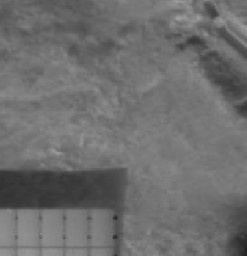solar: (37, 206, 67, 248), (62, 206, 92, 248), (87, 206, 117, 248), (13, 206, 42, 248)
